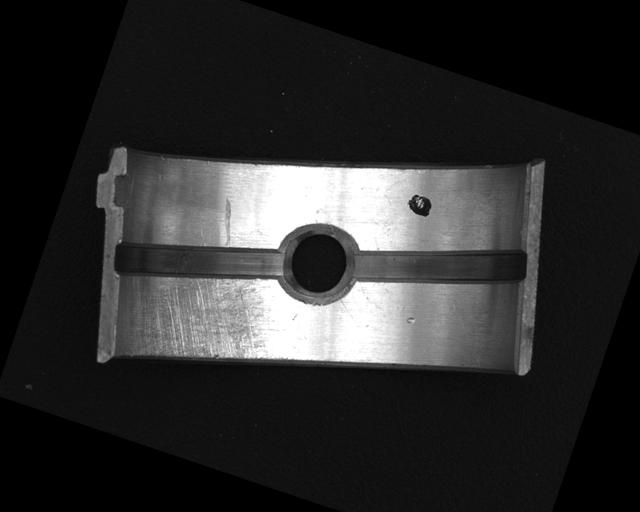blot: (404, 190, 435, 220)
bruise: (404, 313, 417, 327)
gap: (346, 199, 532, 332), (109, 201, 290, 323)
hole: (269, 213, 367, 313)
nick: (210, 197, 244, 249), (331, 297, 365, 329)
scratch: (109, 241, 301, 404)
